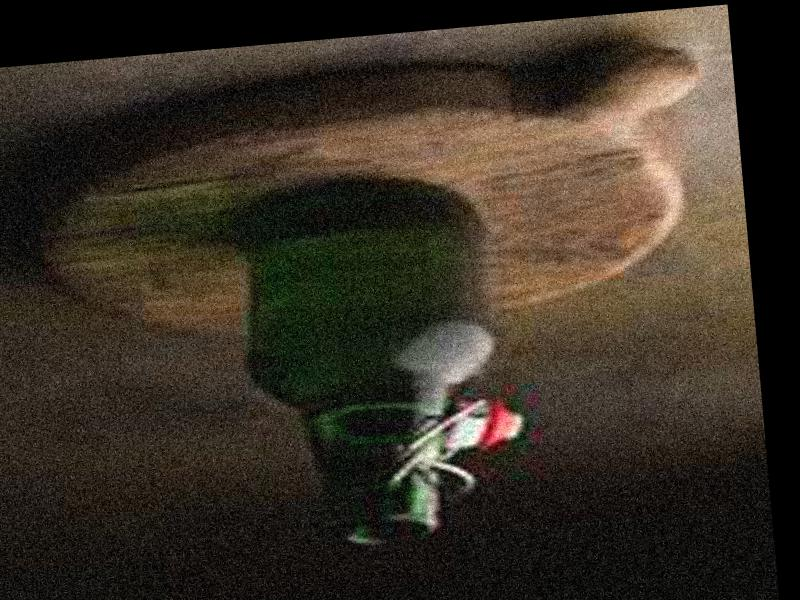Beer: (243, 179, 508, 558)
